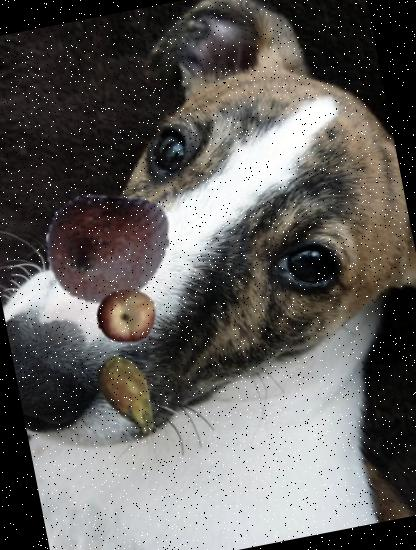Cactus: (78, 344, 181, 448)
Nectarine: (91, 280, 163, 352)
Salak: (34, 177, 178, 321)
